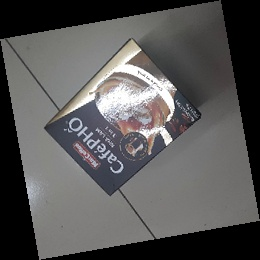CF pho: (44, 38, 202, 196)
